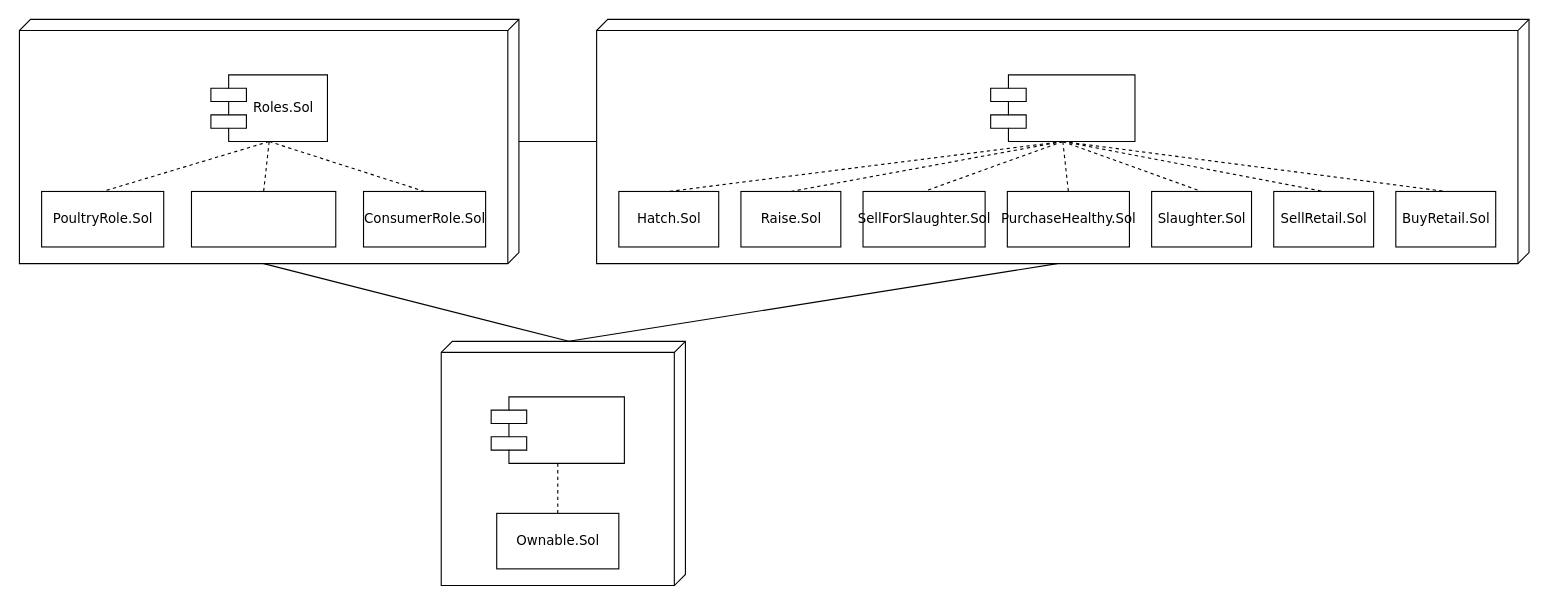
Image size: 1548x605. Some labels were removed from this diagram. The shapes that lost their labels are listed below. From the top down, each one's box as (x1, y1, x2, y2) in pixels, then its label:
(990, 74, 1135, 142): SupplyChain.Sol
(18, 18, 519, 264): HalalAccessControl
(596, 18, 1529, 264): HalalBase
(190, 190, 336, 247): SlaughterHouseRole.Sol
(490, 396, 624, 463): ValueChain.Sol
(440, 340, 685, 586): HalalCore
